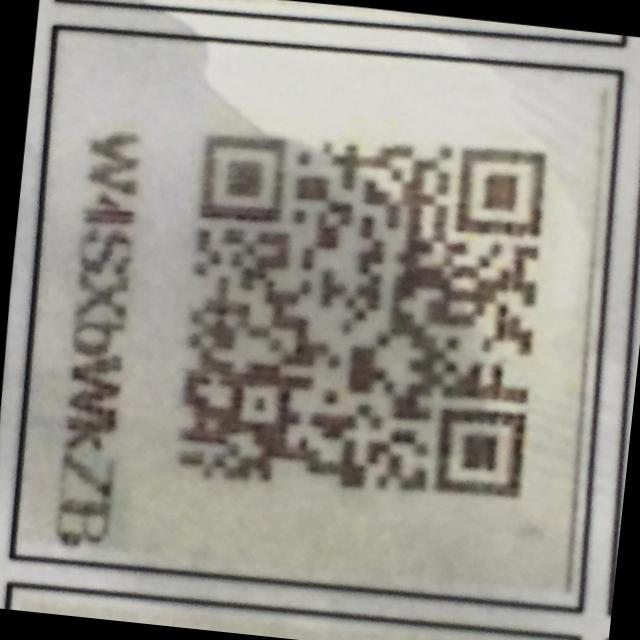QRCode: (143, 95, 578, 533)
